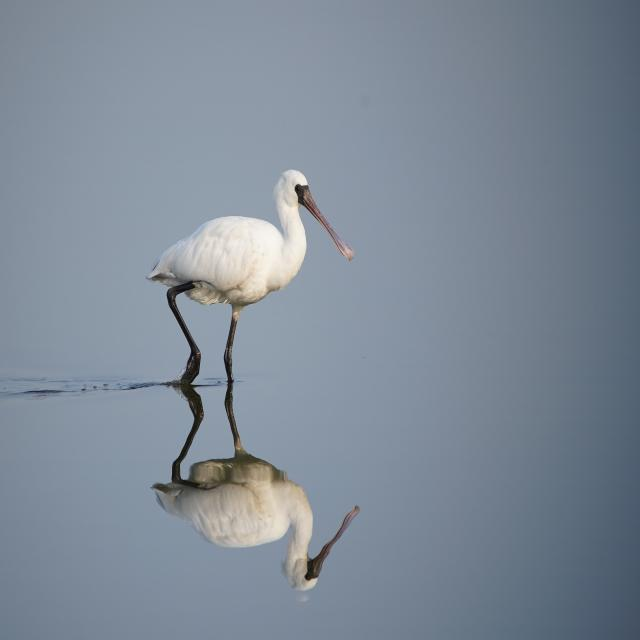Black-faced spoonbill: (147, 170, 353, 383)
